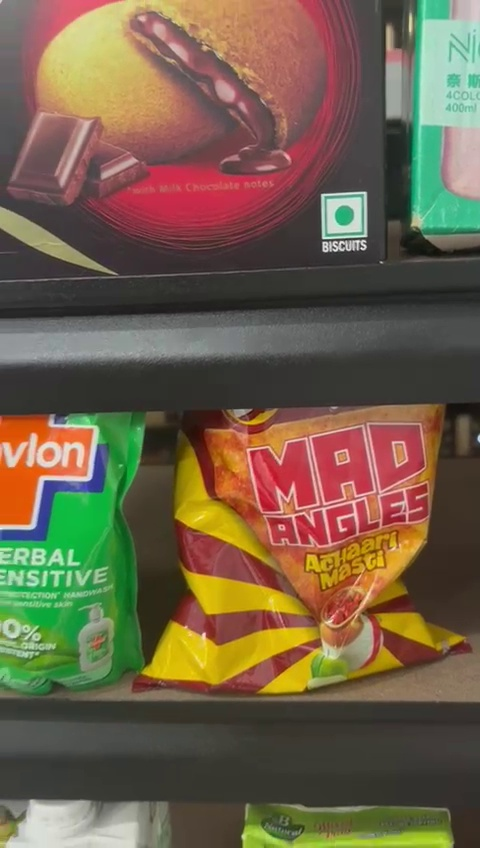Bingo Mad Angles: (177, 410, 455, 698)
